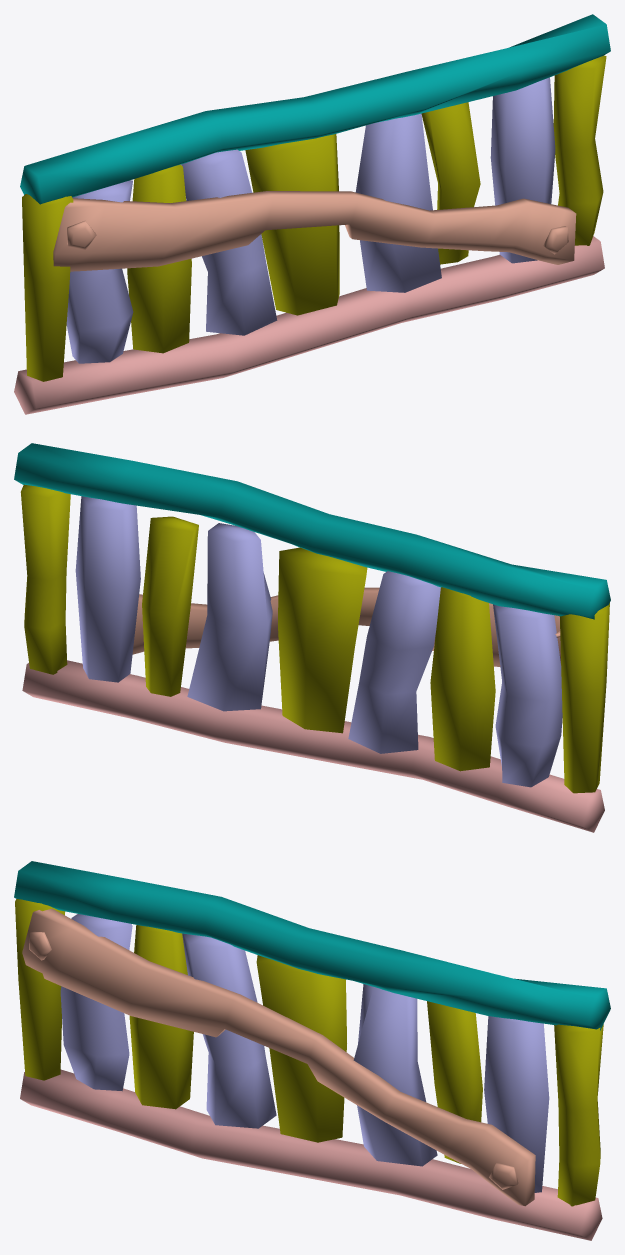
The model's file is PBW_W1_QuarterWallHalf.glb.
3 renders of one model, top to bottom at view 1: azimuth 30°, elevation 25°; view 2: azimuth 150°, elevation 25°; view 3: azimuth 330°, elevation 25°, orthographic.
Visible parts, largest first — view 1: PBW_W1_QuarterWallHalf; view 2: PBW_W1_QuarterWallHalf; view 3: PBW_W1_QuarterWallHalf.
Part boxes in pixels (x1,y1,x2,y2): PBW_W1_QuarterWallHalf: [14, 14, 610, 414]; PBW_W1_QuarterWallHalf: [14, 443, 610, 832]; PBW_W1_QuarterWallHalf: [14, 861, 610, 1240].
Bounding box in the file's own units: 2.57 × 1.08 × 0.3385.
